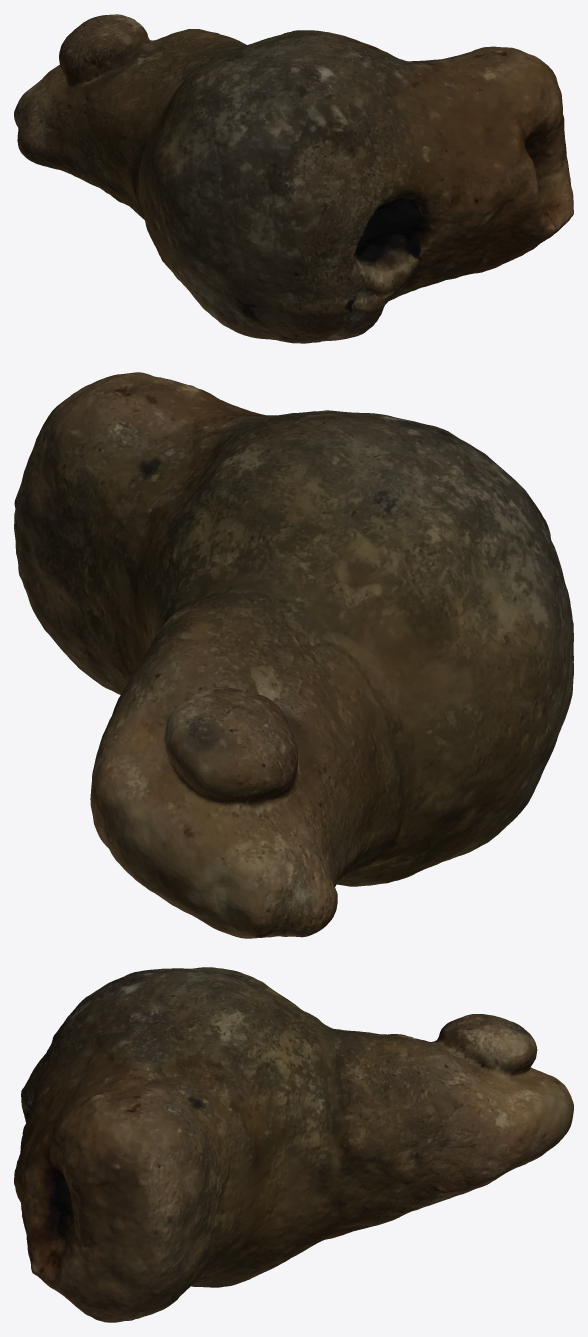
The picture shows the model from 3 angles, top to bottom: view 1: azimuth 30°, elevation 25°; view 2: azimuth 150°, elevation 25°; view 3: azimuth 270°, elevation 25°; orthographic projection. The views are drawn at different scales.
Visible parts, largest first — view 1: Mesh_0.003; view 2: Mesh_0.003; view 3: Mesh_0.003.
Boxes of the visible parts, x1,y1,x2,y2 form: Mesh_0.003: [14, 14, 573, 343]; Mesh_0.003: [14, 372, 573, 938]; Mesh_0.003: [14, 967, 573, 1322].
Bounding box in the file's own units: 0.1086 × 0.077 × 0.1308.
Materials: 1 (1 with a texture image).
